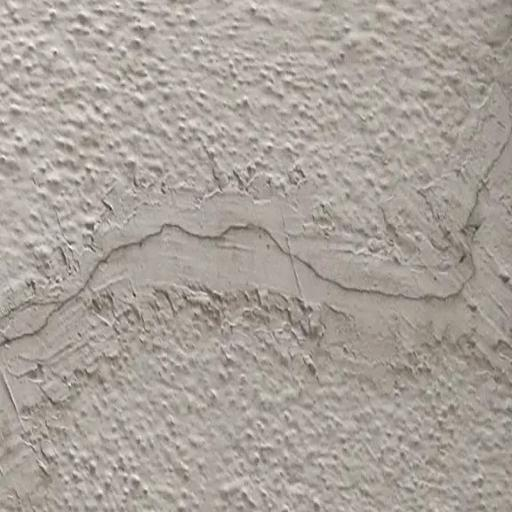minor_crack: (0, 131, 512, 349)
